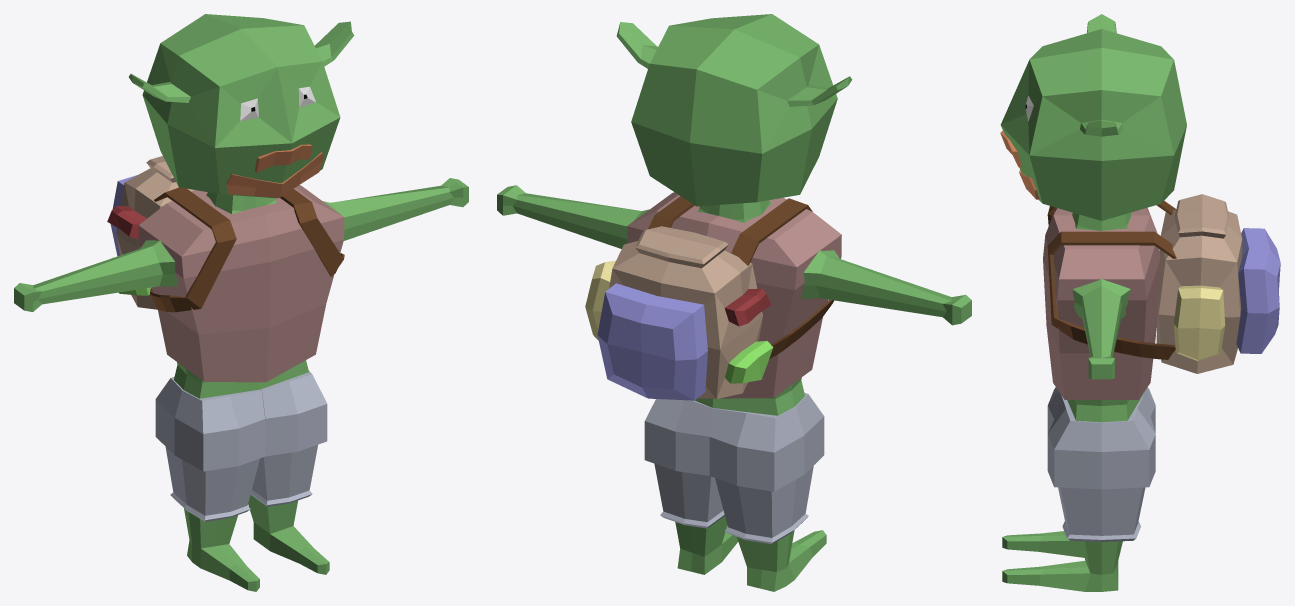
File: goblin.fbx
3 renders of one model, left to right at view 1: azimuth 30°, elevation 25°; view 2: azimuth 150°, elevation 25°; view 3: azimuth 270°, elevation 25°, orthographic. The views are drawn at different scales.
Parts seen in each view (by area): view 1: голова, куртка, штаны, тело, лямки, рюкзак; view 2: голова, рюкзак, штаны, тело, куртка, лямки; view 3: голова, рюкзак, куртка, штаны, тело, лямки.
Part boxes in pixels (<box>): голова: <box>129,14,354,198</box>; куртка: <box>138,185,344,382</box>; штаны: <box>155,370,327,521</box>; тело: <box>14,178,468,591</box>; лямки: <box>150,187,344,312</box>; рюкзак: <box>107,156,193,309</box>; голова: <box>616,14,852,206</box>; рюкзак: <box>585,226,773,400</box>; штаны: <box>644,392,824,544</box>; тело: <box>497,185,971,591</box>; куртка: <box>627,192,841,398</box>; лямки: <box>648,196,834,359</box>; голова: <box>1000,14,1186,220</box>; рюкзак: <box>1156,194,1280,373</box>; куртка: <box>1043,207,1159,399</box>; штаны: <box>1047,387,1155,541</box>; тело: <box>1002,212,1143,591</box>; лямки: <box>1047,200,1176,359</box>.
Size of the model in its own units: 709 by 794 by 388.
